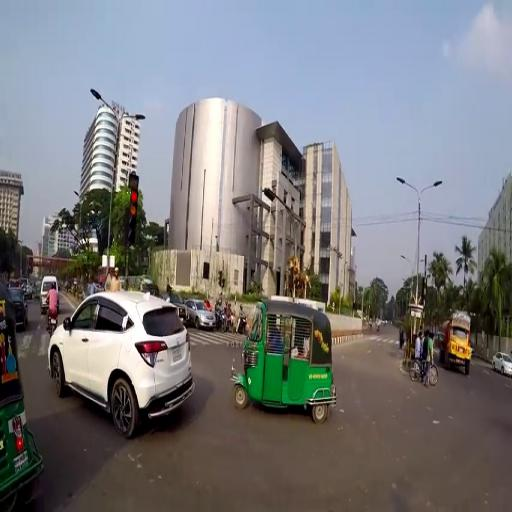bicycle: (409, 352, 439, 387)
car: (47, 292, 194, 430), (185, 298, 216, 329), (10, 287, 29, 329), (492, 351, 507, 373)
motorbike: (47, 305, 59, 336), (227, 312, 238, 333), (238, 313, 248, 334), (218, 309, 227, 331)
suv: (166, 289, 191, 324), (40, 275, 59, 308), (21, 276, 33, 298)
three wheelers (CNG): (231, 301, 336, 423), (1, 285, 41, 504)
truck: (440, 311, 474, 376)
